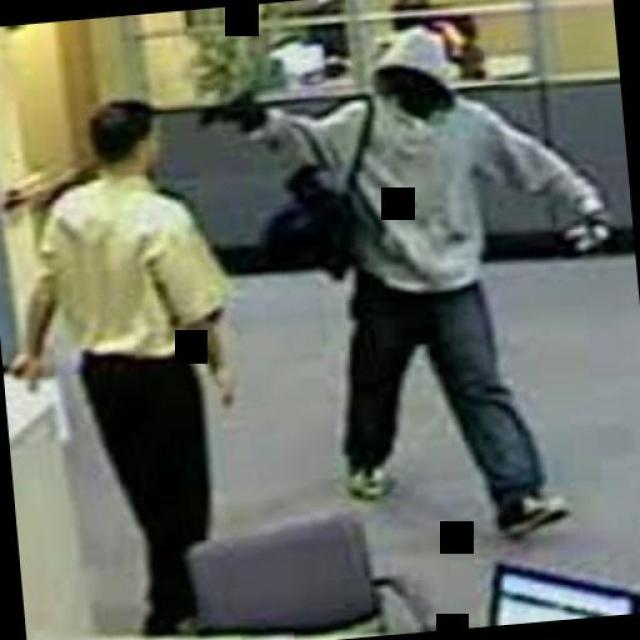gun: (191, 85, 260, 146)
